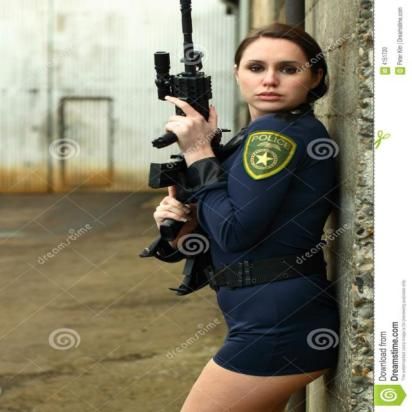Gun: (135, 1, 223, 294)
